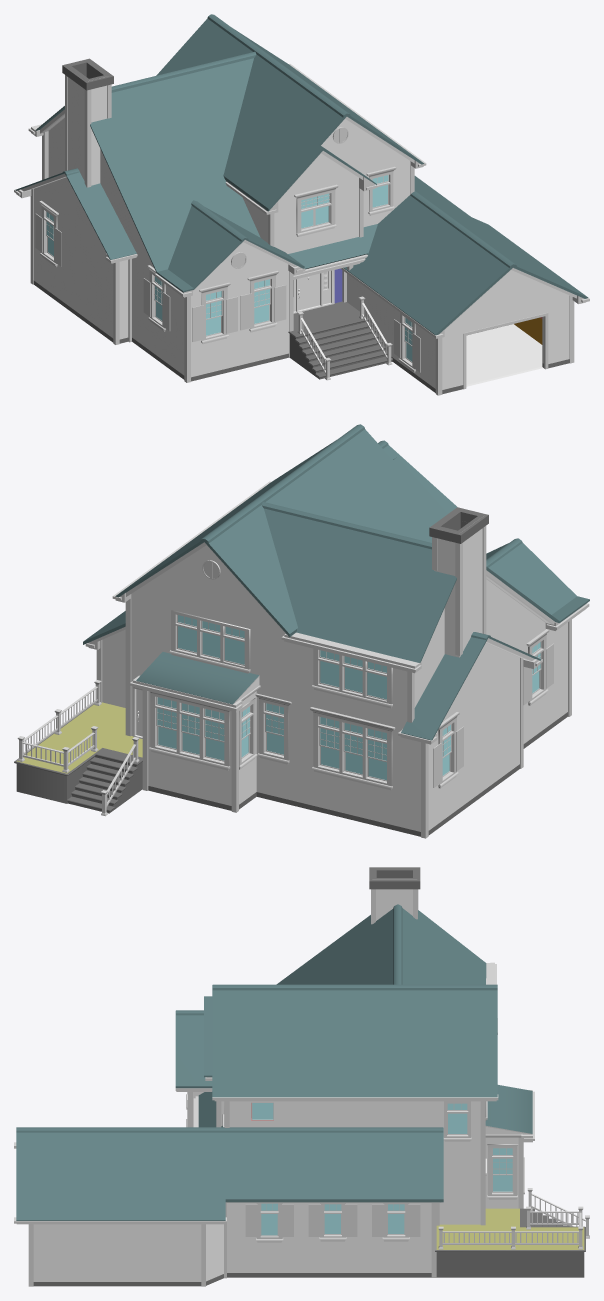
The model's file is AmericanHouse.FBX.
3 renders of one model, top to bottom at view 1: azimuth 30°, elevation 25°; view 2: azimuth 150°, elevation 25°; view 3: azimuth 270°, elevation 25°, orthographic. The views are drawn at different scales.
Parts seen in each view (by area): view 1: Roof_MAIN, AH_Exterior, HouseFrames, FrontStairs, Roof_Frames, Floor_Garage, Chimney, Window_Upstairs_Double, Window_Small014, Window_Small, Doorframe_Main, Window_Stairs (+6 smaller); view 2: Roof_MAIN, AH_Exterior, BackPorch, HouseFrames, Roof_Frames, Chimney, Window_Triple001, Window_Triple, Window_Triple003, Backporch_Rails, Window_Triple002, Window_Small018 (+4 smaller); view 3: Roof_MAIN, AH_Exterior, BackPorch, Roof_Frames, HouseFrames, Chimney, Backporch_Rails, Window_Small020, Window_Stairs001, Window_Bathroom, Window_Bathroom002, Window_Bathroom001.
Boxes of the visible parts, x1=… form: Roof_MAIN: x1=15, y1=14, x2=588, y2=335; AH_Exterior: x1=33, y1=118, x2=569, y2=394; HouseFrames: x1=30, y1=75, x2=574, y2=395; FrontStairs: x1=288, y1=301, x2=392, y2=379; Roof_Frames: x1=14, y1=64, x2=589, y2=338; Floor_Garage: x1=466, y1=324, x2=542, y2=386; Chimney: x1=62, y1=58, x2=113, y2=185; Window_Upstairs_Double: x1=294, y1=184, x2=338, y2=236; Window_Small014: x1=199, y1=282, x2=230, y2=344; Window_Small: x1=247, y1=271, x2=278, y2=332; Doorframe_Main: x1=293, y1=270, x2=334, y2=313; Window_Stairs: x1=366, y1=166, x2=396, y2=215; Roof_MAIN: x1=83, y1=424, x2=589, y2=740; AH_Exterior: x1=102, y1=545, x2=567, y2=836; BackPorch: x1=14, y1=702, x2=142, y2=813; HouseFrames: x1=96, y1=526, x2=571, y2=838; Roof_Frames: x1=85, y1=481, x2=589, y2=744; Chimney: x1=429, y1=507, x2=488, y2=657; Window_Triple001: x1=310, y1=707, x2=395, y2=790; Window_Triple: x1=149, y1=691, x2=230, y2=770; Window_Triple003: x1=169, y1=610, x2=250, y2=673; Backporch_Rails: x1=17, y1=680, x2=101, y2=772; Window_Triple002: x1=312, y1=648, x2=392, y2=708; Window_Small018: x1=255, y1=693, x2=291, y2=764; Roof_MAIN: x1=16, y1=904, x2=532, y2=1220; AH_Exterior: x1=33, y1=1092, x2=518, y2=1286; BackPorch: x1=435, y1=1208, x2=585, y2=1277; Roof_Frames: x1=14, y1=962, x2=534, y2=1224; HouseFrames: x1=28, y1=889, x2=523, y2=1286; Chimney: x1=369, y1=867, x2=420, y2=920; Backporch_Rails: x1=438, y1=1206, x2=583, y2=1249; Window_Small020: x1=487, y1=1144, x2=518, y2=1199; Window_Stairs001: x1=443, y1=1101, x2=471, y2=1141; Window_Bathroom: x1=256, y1=1203, x2=283, y2=1242; Window_Bathroom002: x1=382, y1=1203, x2=409, y2=1241; Window_Bathroom001: x1=319, y1=1203, x2=346, y2=1241.
Size of the model in its own units: 992 by 660 by 1362.
